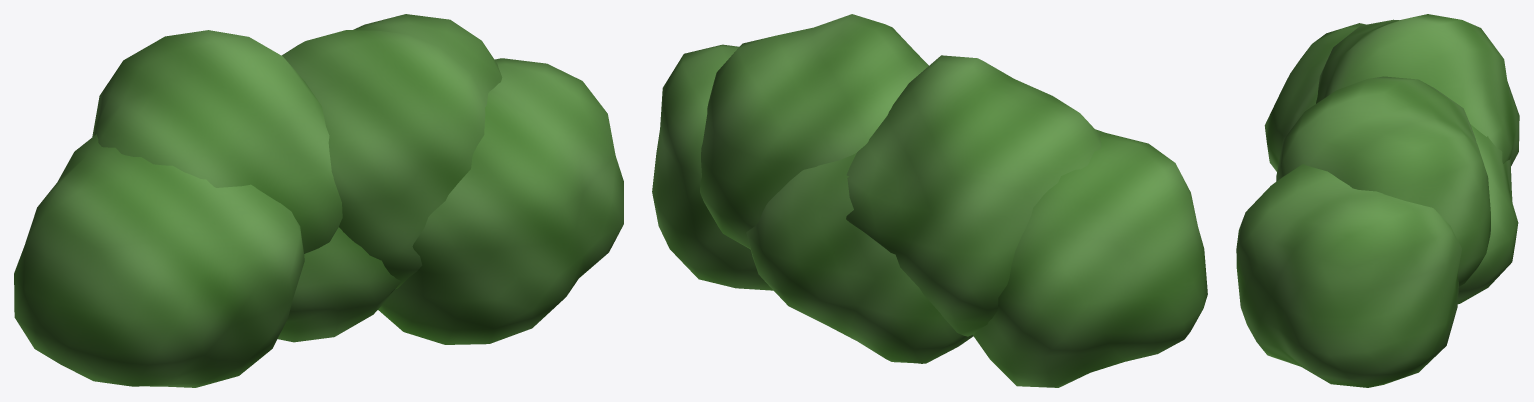
Rendered from hedgerow_shrub.glb.
The picture shows the model from 3 angles, left to right: view 1: azimuth 30°, elevation 25°; view 2: azimuth 150°, elevation 25°; view 3: azimuth 270°, elevation 25°; orthographic projection. The views are drawn at different scales.
Parts seen in each view (by area): view 1: hedgerow_shrub.002; view 2: hedgerow_shrub.002; view 3: hedgerow_shrub.002.
Part boxes in pixels (<box>): hedgerow_shrub.002: <box>14,14,623,387</box>; hedgerow_shrub.002: <box>652,14,1207,387</box>; hedgerow_shrub.002: <box>1236,14,1519,387</box>.
Bounding box in the file's own units: 3.6 × 1.93 × 1.83.
Materials: 1 (1 with a texture image).
